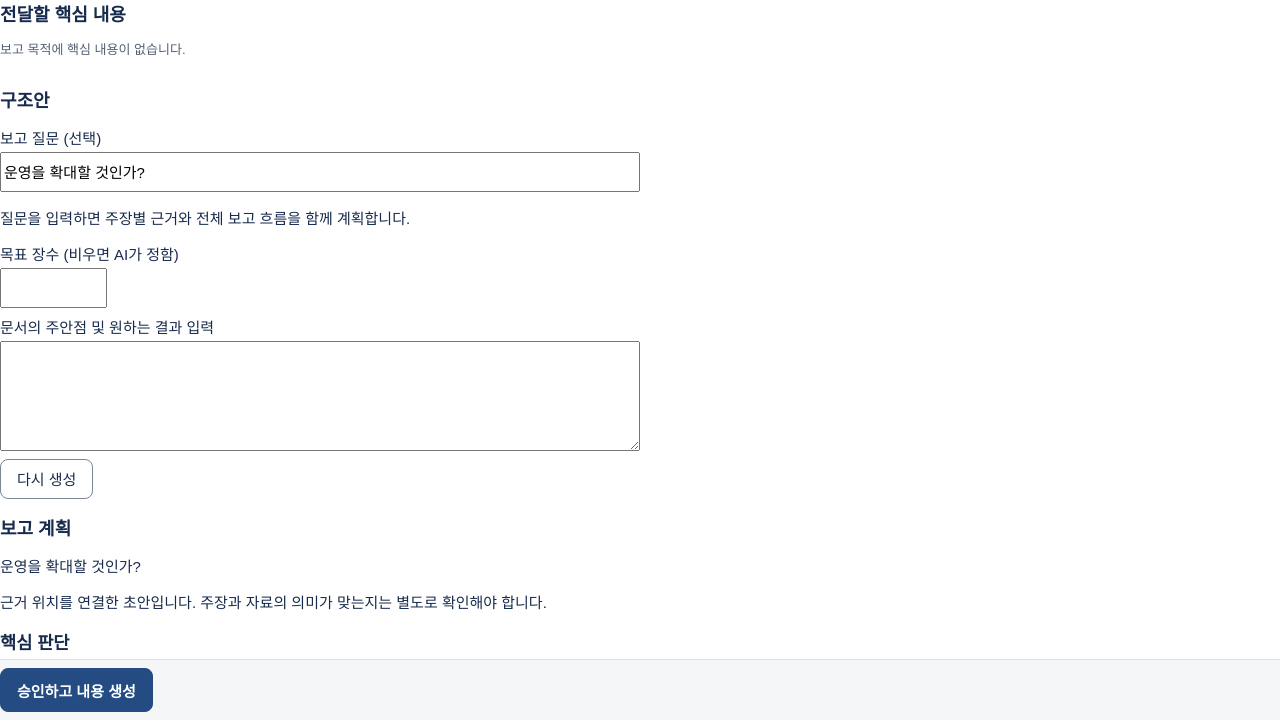
Test: 질문이 바뀌면 옛 계획을 승인하기 전에 재생성을 요구한다
Type " 변경" into the field labelled "보고 질문".
click(320, 172); type(" 변경")  # box [0,152,640,192]
(page scrolled)
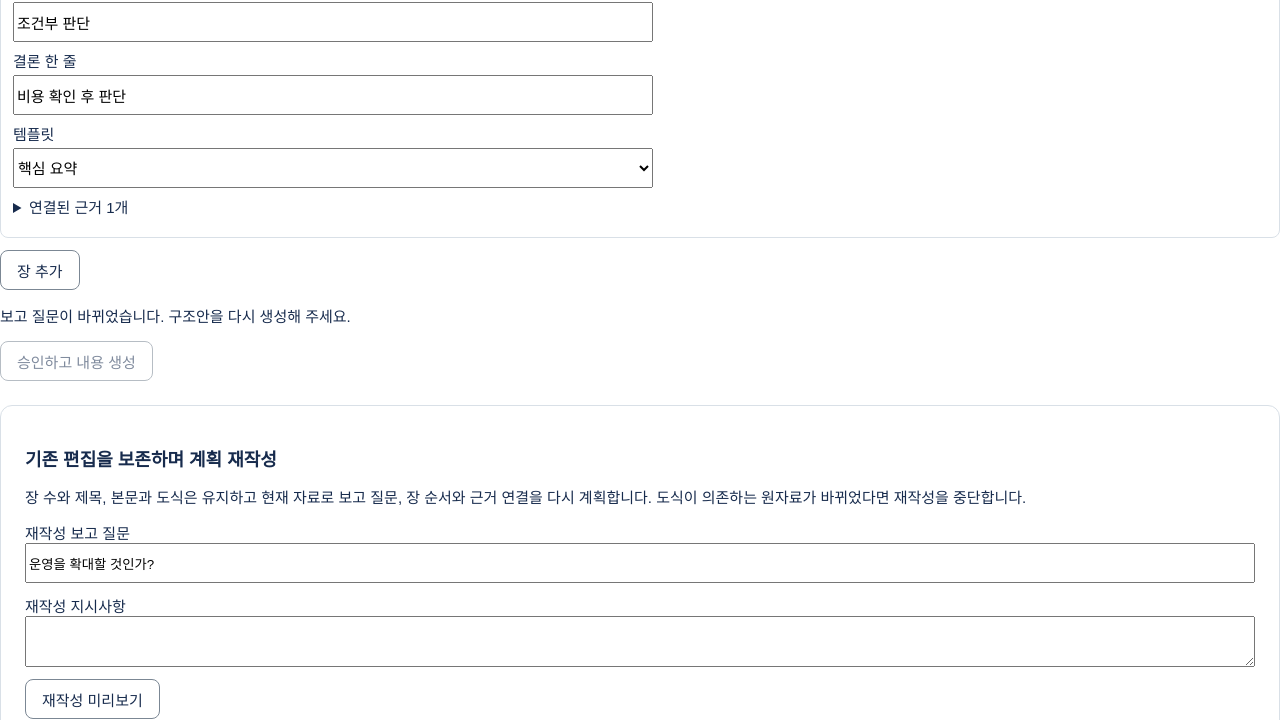
Expected: the button "승인하고 내용 생성" is disabled, [0,341,153,381]
Expected: the text "보고 질문이 바뀌었습니다. 구조안을 다시 생성해 주세요." is shown, [0,308,351,325]
